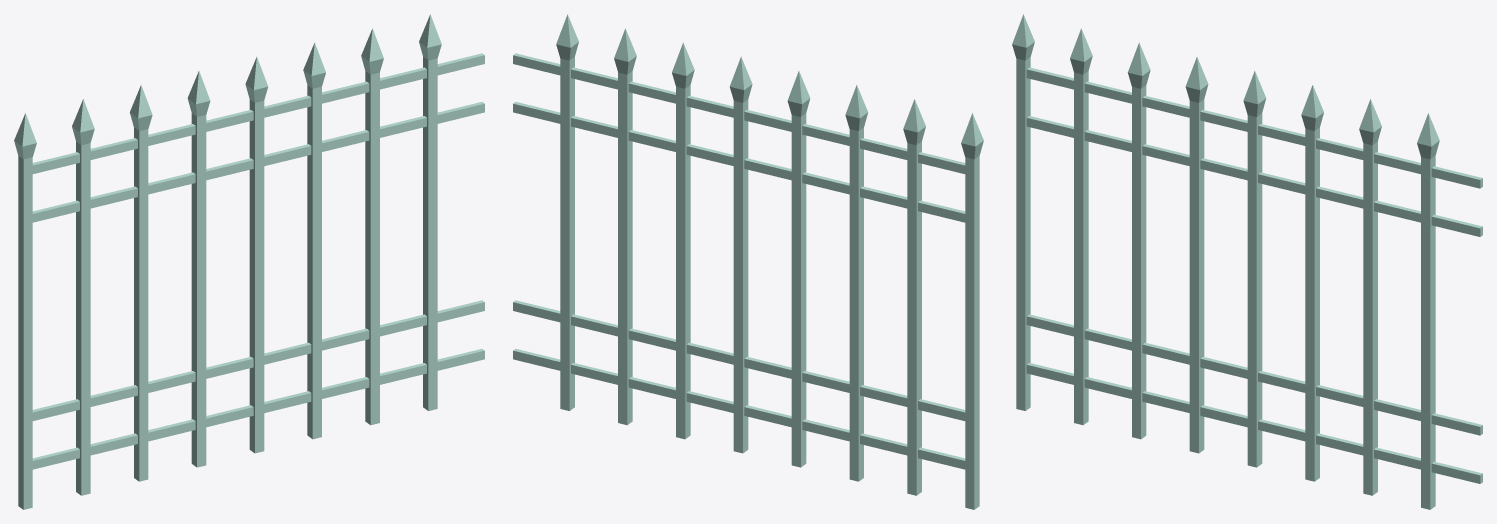
Rendered from fenceIron.glb.
3 views of the same model, side by side, from view 1: azimuth 30°, elevation 25°; view 2: azimuth 150°, elevation 25°; view 3: azimuth 330°, elevation 25° (orthographic).
Visible parts, largest first — view 1: bar (×12); view 2: bar (×12); view 3: bar (×12).
Boxes of the visible parts, left/top/right/bottom form: bar (×12): left=14, top=14, right=484, bottom=509; bar (×12): left=513, top=14, right=983, bottom=509; bar (×12): left=1012, top=14, right=1482, bottom=509.
Bounding box in the file's own units: 1.01 × 0.8139 × 0.0314.
